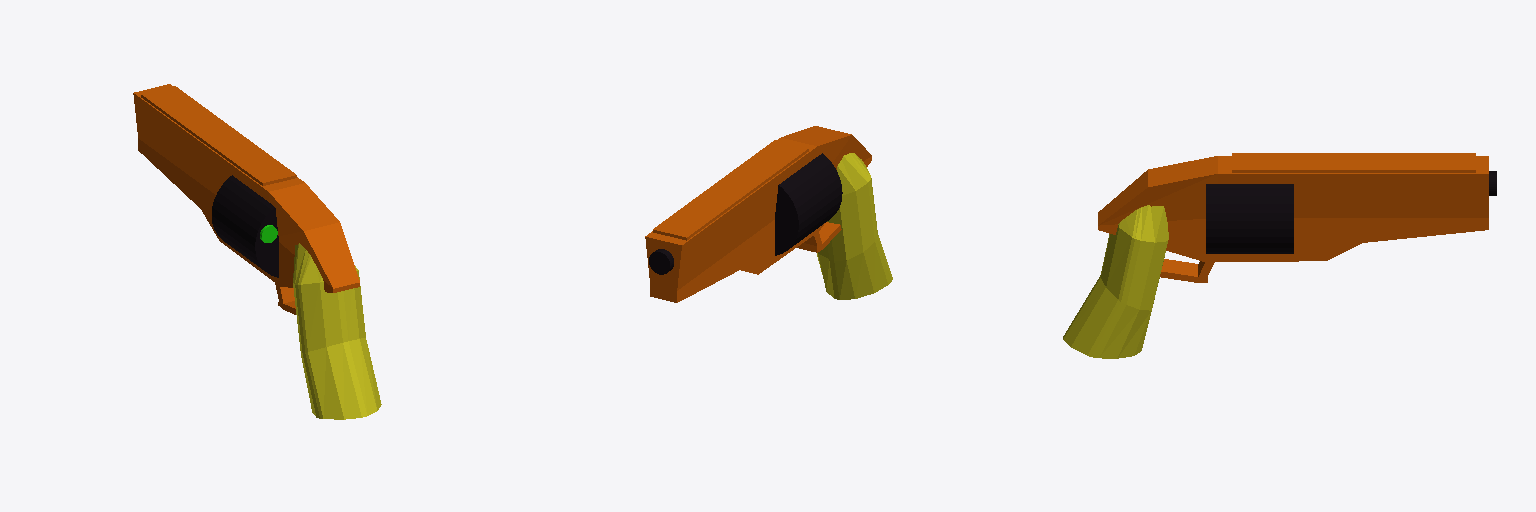
Rendered from revolver.obj.
The picture shows the model from 3 angles: view 1: azimuth 30°, elevation 25°; view 2: azimuth 150°, elevation 25°; view 3: azimuth 270°, elevation 25°; orthographic projection.
Parts seen in each view (by area): view 1: Cube.001, Cube, Cube.002, Cylinder; view 2: Cube.001, Cube, Cube.002, Cylinder; view 3: Cube.001, Cube, Cylinder, Cube.002.
Part boxes in pixels (left/top/right/bottom): Cube.001: left=133, top=84, right=359, bottom=314; Cube: left=293, top=243, right=381, bottom=419; Cube.002: left=141, top=86, right=296, bottom=185; Cylinder: left=212, top=175, right=278, bottom=277; Cube.001: left=645, top=126, right=871, bottom=302; Cube: left=817, top=153, right=892, bottom=299; Cube.002: left=653, top=140, right=808, bottom=240; Cylinder: left=775, top=153, right=842, bottom=255; Cube.001: left=1098, top=156, right=1488, bottom=282; Cube: left=1063, top=205, right=1168, bottom=358; Cylinder: left=1206, top=184, right=1293, bottom=253; Cube.002: left=1232, top=153, right=1475, bottom=172.
Size of the model in its own units: 1.4 by 3.34 by 6.96.